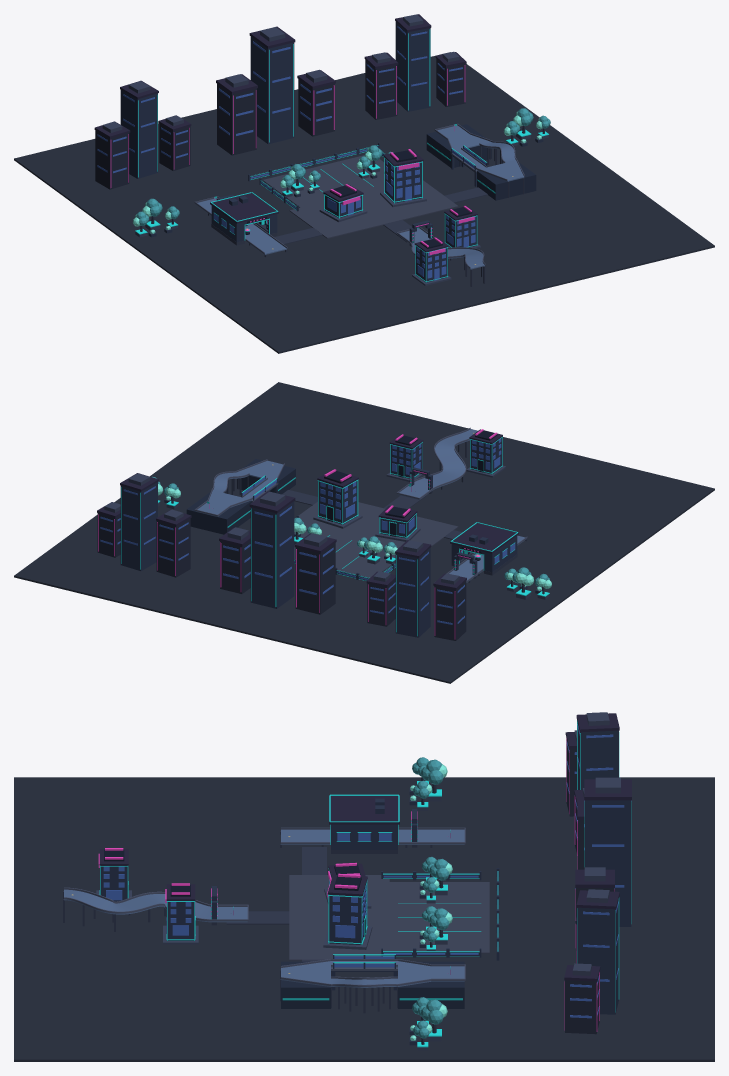
Rendered from district.glb.
3 renders of one model, top to bottom at view 1: azimuth 30°, elevation 25°; view 2: azimuth 150°, elevation 25°; view 3: azimuth 270°, elevation 25°, orthographic. The views are drawn at different scales.
Visible parts, largest first — view 1: Neon_District_Dressing, DistrictScenery_4__Neon_SkylineBlock_Standard, DistrictScenery_5__Neon_SkylineBlock_Standard, DistrictScenery_6__Neon_SkylineBlock_Standard, DistrictScenery_1__Neon_DataTower_Standard, RooftopSplit__Neon_RooftopSplit_Surface, DistrictScenery_2__Neon_DataTower_Standard, DistrictScenery_3__Neon_DataTower_Standard, ArcadeAlley_1__Neon_ArcadeRoof_Standard, DistrictScenery_0__Neon_ArcadeKiosk_Standard, DistrictScenery_7__Neon_CyberGarden_Standard, ArcadeAlley_0__Neon_ArcadePassage_Standard (+5 smaller); view 2: Neon_District_Dressing, DistrictScenery_4__Neon_SkylineBlock_Standard, DistrictScenery_5__Neon_SkylineBlock_Standard, DistrictScenery_6__Neon_SkylineBlock_Standard, DistrictScenery_1__Neon_DataTower_Standard, RooftopSplit__Neon_RooftopSplit_Surface, DataTowerDescent__Neon_DataTowerDescent_Surface, DistrictScenery_2__Neon_DataTower_Standard, DistrictScenery_3__Neon_DataTower_Standard, ArcadeAlley_1__Neon_ArcadeRoof_Standard, DistrictScenery_0__Neon_ArcadeKiosk_Standard, DistrictScenery_7__Neon_CyberGarden_Standard (+4 smaller); view 3: Neon_District_Dressing, DistrictScenery_4__Neon_SkylineBlock_Standard, DistrictScenery_6__Neon_SkylineBlock_Standard, DistrictScenery_5__Neon_SkylineBlock_Standard, DistrictScenery_1__Neon_DataTower_Standard, RooftopSplit__Neon_RooftopSplit_Surface, ArcadeAlley_1__Neon_ArcadeRoof_Standard, DataTowerDescent__Neon_DataTowerDescent_Surface, DistrictScenery_3__Neon_DataTower_Standard, ArcadeAlley_0__Neon_ArcadePassage_Standard, ArcadeAlley__Neon_ArcadeAlley_Surface, DistrictScenery_2__Neon_DataTower_Standard (+8 smaller).
Boxes of the visible parts, x1,y1,x2,y2 form: Neon_District_Dressing: (14, 52, 714, 353); DistrictScenery_4__Neon_SkylineBlock_Standard: (216, 26, 335, 155); DistrictScenery_5__Neon_SkylineBlock_Standard: (94, 80, 191, 189); DistrictScenery_6__Neon_SkylineBlock_Standard: (364, 14, 466, 119); DistrictScenery_1__Neon_DataTower_Standard: (380, 149, 426, 207); RooftopSplit__Neon_RooftopSplit_Surface: (436, 125, 524, 181); DistrictScenery_2__Neon_DataTower_Standard: (412, 237, 451, 285); DistrictScenery_3__Neon_DataTower_Standard: (444, 206, 480, 248); ArcadeAlley_1__Neon_ArcadeRoof_Standard: (210, 192, 278, 223); DistrictScenery_0__Neon_ArcadeKiosk_Standard: (319, 184, 367, 222); DistrictScenery_7__Neon_CyberGarden_Standard: (133, 198, 179, 237); ArcadeAlley_0__Neon_ArcadePassage_Standard: (211, 205, 277, 242); Neon_District_Dressing: (14, 382, 714, 683); DistrictScenery_4__Neon_SkylineBlock_Standard: (219, 491, 336, 614); DistrictScenery_5__Neon_SkylineBlock_Standard: (366, 540, 466, 640); DistrictScenery_6__Neon_SkylineBlock_Standard: (97, 473, 191, 577); DistrictScenery_1__Neon_DataTower_Standard: (313, 469, 362, 528); RooftopSplit__Neon_RooftopSplit_Surface: (195, 460, 283, 516); DataTowerDescent__Neon_DataTowerDescent_Surface: (397, 429, 477, 499); DistrictScenery_2__Neon_DataTower_Standard: (466, 429, 505, 477); DistrictScenery_3__Neon_DataTower_Standard: (386, 434, 423, 481); ArcadeAlley_1__Neon_ArcadeRoof_Standard: (450, 522, 518, 553); DistrictScenery_0__Neon_ArcadeKiosk_Standard: (375, 505, 420, 541); DistrictScenery_7__Neon_CyberGarden_Standard: (504, 567, 551, 599); Neon_District_Dressing: (14, 777, 714, 1061); DistrictScenery_4__Neon_SkylineBlock_Standard: (575, 777, 631, 950); DistrictScenery_6__Neon_SkylineBlock_Standard: (564, 889, 619, 1034); DistrictScenery_5__Neon_SkylineBlock_Standard: (565, 712, 619, 855); DistrictScenery_1__Neon_DataTower_Standard: (323, 873, 372, 949); RooftopSplit__Neon_RooftopSplit_Surface: (281, 961, 464, 987); ArcadeAlley_1__Neon_ArcadeRoof_Standard: (329, 794, 399, 824); DataTowerDescent__Neon_DataTowerDescent_Surface: (64, 889, 247, 922); DistrictScenery_3__Neon_DataTower_Standard: (163, 883, 198, 944); ArcadeAlley_0__Neon_ArcadePassage_Standard: (330, 824, 398, 849); ArcadeAlley__Neon_ArcadeAlley_Surface: (281, 829, 464, 844); DistrictScenery_2__Neon_DataTower_Standard: (96, 848, 131, 901).
Size of what is drawn, in the model's own units: 80 by 18.25 by 84.
